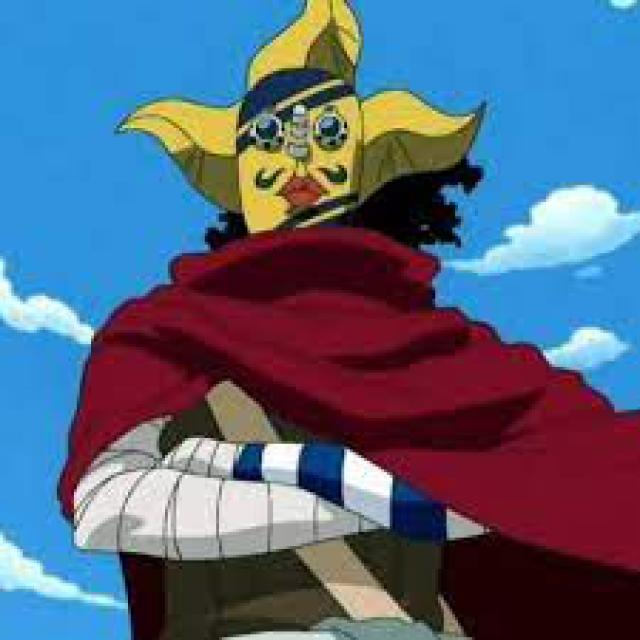Usopp: (57, 0, 640, 640)
